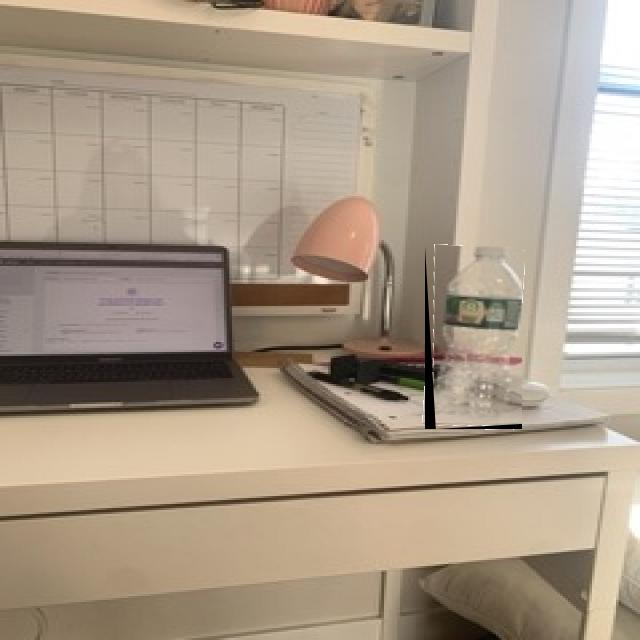water_bottle: (425, 246, 522, 429)
